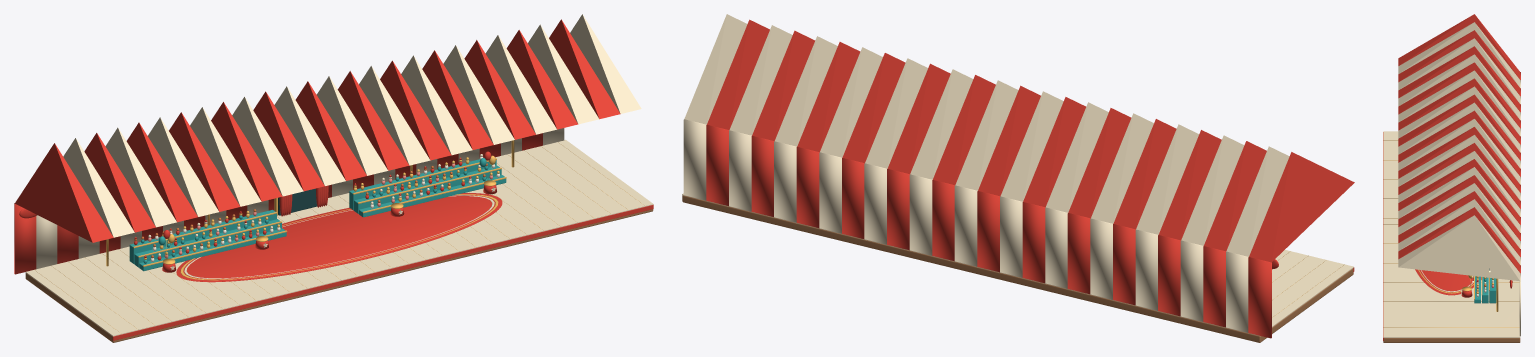
File: arena.glb
The picture shows the model from 3 angles, left to right: view 1: azimuth 30°, elevation 25°; view 2: azimuth 150°, elevation 25°; view 3: azimuth 270°, elevation 25°; orthographic projection. The views are drawn at different scales.
Parts seen in each view (by area): view 1: Stage surface, Oval ring carpet, Roof stripe, Velvet edge, Roof stripe.017, Roof stripe.001, Roof stripe.009, Roof stripe.011, Roof stripe.013, Roof stripe.007, Roof stripe.014, Roof stripe.015 (+30 smaller); view 2: Roof stripe, Stage foundation, Stage surface, Roof stripe.023, Roof stripe.025, Roof stripe.001, Roof stripe.002, Roof stripe.004, Roof stripe.008, Roof stripe.011, Roof stripe.005, Roof stripe.006 (+42 smaller); view 3: Stage surface, Roof stripe.025, Roof stripe.024, Roof stripe.023, Roof stripe.002, Roof stripe.003, Roof stripe.004, Roof stripe.008, Roof stripe, Roof stripe.001, Roof stripe.009, Roof stripe.010 (+23 smaller).
Boxes of the visible parts, bbox=[...] form: Stage surface: bbox=[25, 139, 653, 336]; Oval ring carpet: bbox=[176, 193, 502, 282]; Roof stripe: bbox=[15, 143, 113, 242]; Velvet edge: bbox=[112, 205, 653, 340]; Roof stripe.017: bbox=[401, 55, 472, 155]; Roof stripe.001: bbox=[63, 138, 134, 237]; Roof stripe.009: bbox=[232, 96, 303, 196]; Roof stripe.011: bbox=[274, 86, 345, 185]; Roof stripe.013: bbox=[316, 76, 388, 175]; Roof stripe.007: bbox=[190, 107, 261, 206]; Roof stripe.014: bbox=[337, 71, 409, 170]; Roof stripe.015: bbox=[359, 66, 430, 165]; Roof stripe: bbox=[1249, 152, 1354, 262]; Stage foundation: bbox=[682, 195, 1353, 342]; Stage surface: bbox=[682, 193, 1353, 335]; Roof stripe.023: bbox=[729, 25, 792, 135]; Roof stripe.025: bbox=[684, 14, 747, 124]; Roof stripe.001: bbox=[1226, 146, 1289, 256]; Roof stripe.002: bbox=[1204, 141, 1266, 251]; Roof stripe.004: bbox=[1158, 130, 1221, 240]; Roof stripe.008: bbox=[1068, 108, 1131, 218]; Roof stripe.011: bbox=[1000, 91, 1063, 201]; Roof stripe.005: bbox=[1136, 124, 1198, 234]; Roof stripe.006: bbox=[1113, 119, 1176, 229]; Stage surface: bbox=[1383, 131, 1520, 337]; Roof stripe.025: bbox=[1398, 215, 1520, 281]; Roof stripe.024: bbox=[1398, 207, 1520, 272]; Roof stripe.023: bbox=[1398, 199, 1520, 264]; Roof stripe.002: bbox=[1398, 30, 1520, 95]; Roof stripe.003: bbox=[1398, 38, 1520, 103]; Roof stripe.004: bbox=[1398, 46, 1520, 111]; Roof stripe.008: bbox=[1398, 78, 1520, 143]; Roof stripe: bbox=[1398, 14, 1520, 79]; Roof stripe.001: bbox=[1398, 22, 1520, 87]; Roof stripe.009: bbox=[1398, 86, 1520, 151]; Roof stripe.010: bbox=[1398, 94, 1520, 159].
Size of the model in its own units: 65.49 by 17.87 by 18.12.
